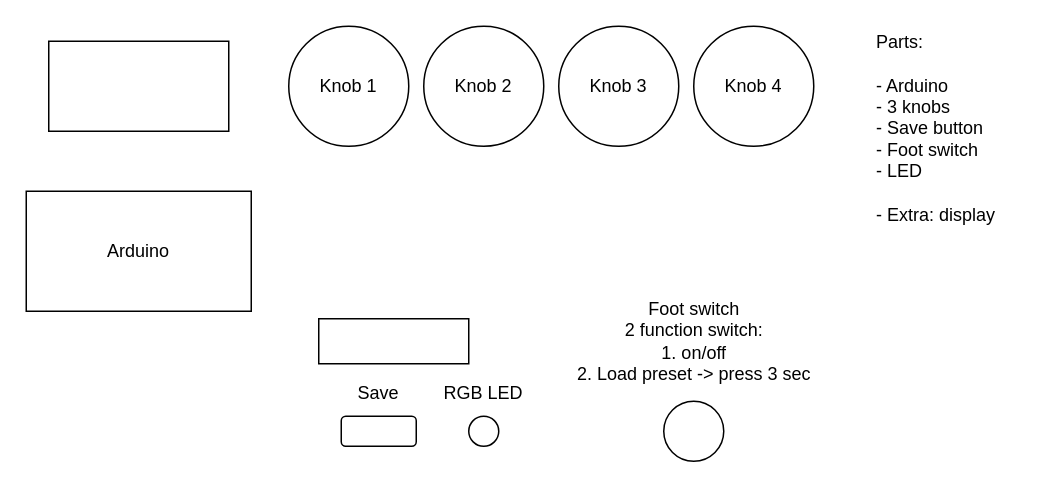
Some shapes in this 1050 by 488 pixel diagram are drawn without their labels. The shapes that lost their labels are listed below. From the top down, each one's centre as x and y in pixels, then its label:
At [138,85]: "EEPROM".
At [393,340]: "Display".
